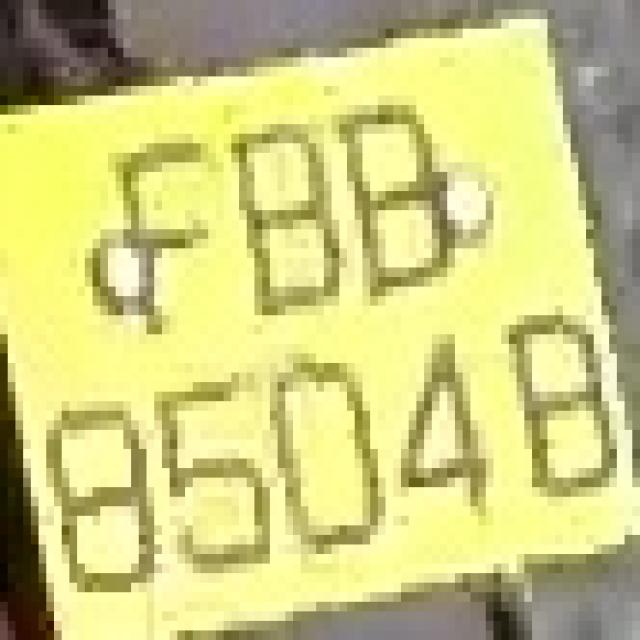0: (262, 354, 401, 573)
4: (370, 325, 494, 544)
5: (147, 354, 286, 573)
8: (31, 392, 154, 592)
B: (324, 57, 463, 325), (208, 86, 347, 334), (509, 277, 632, 497)
F: (92, 96, 224, 363)
